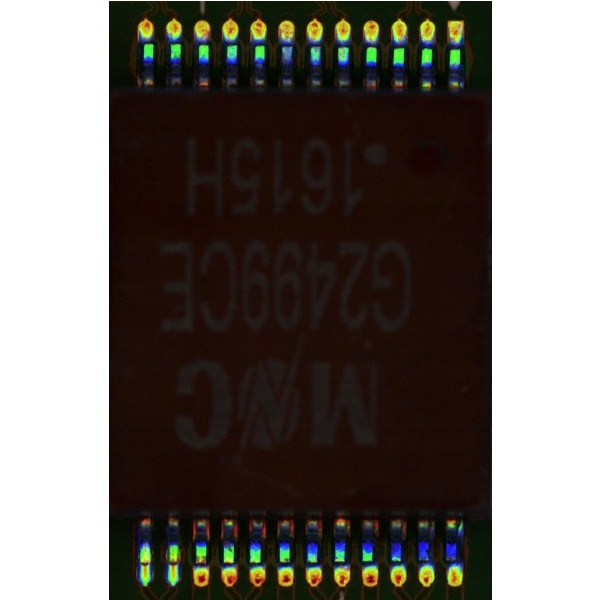Bad_podu: (142, 556, 150, 575), (170, 554, 176, 577)
